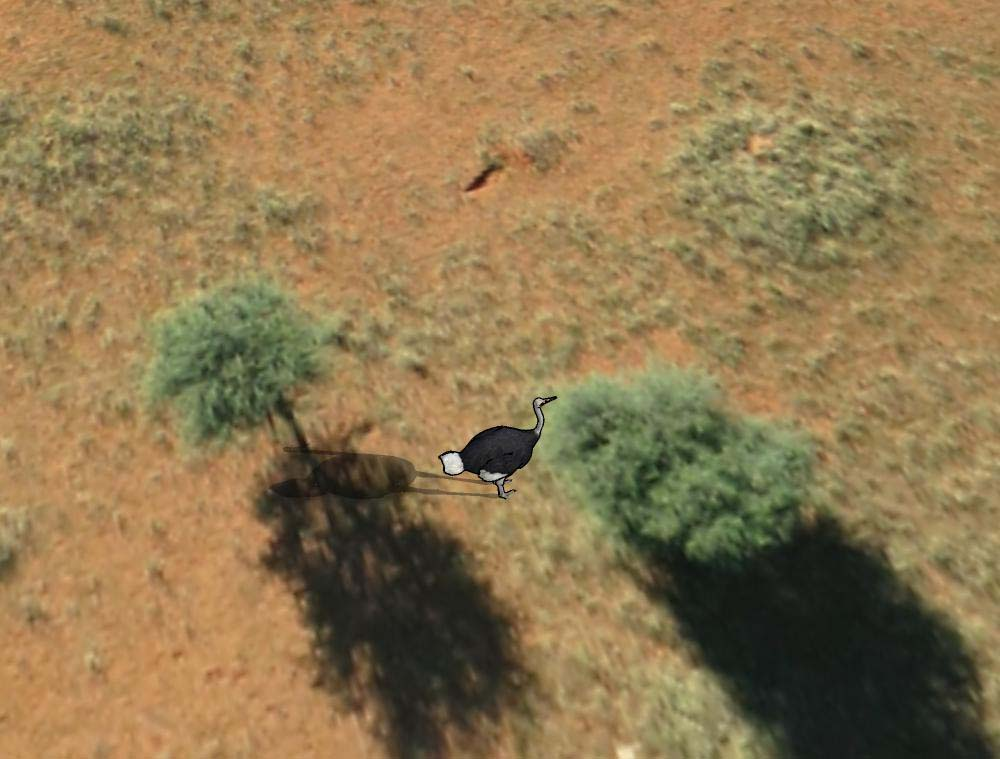ostrich: (439, 391, 561, 499)
